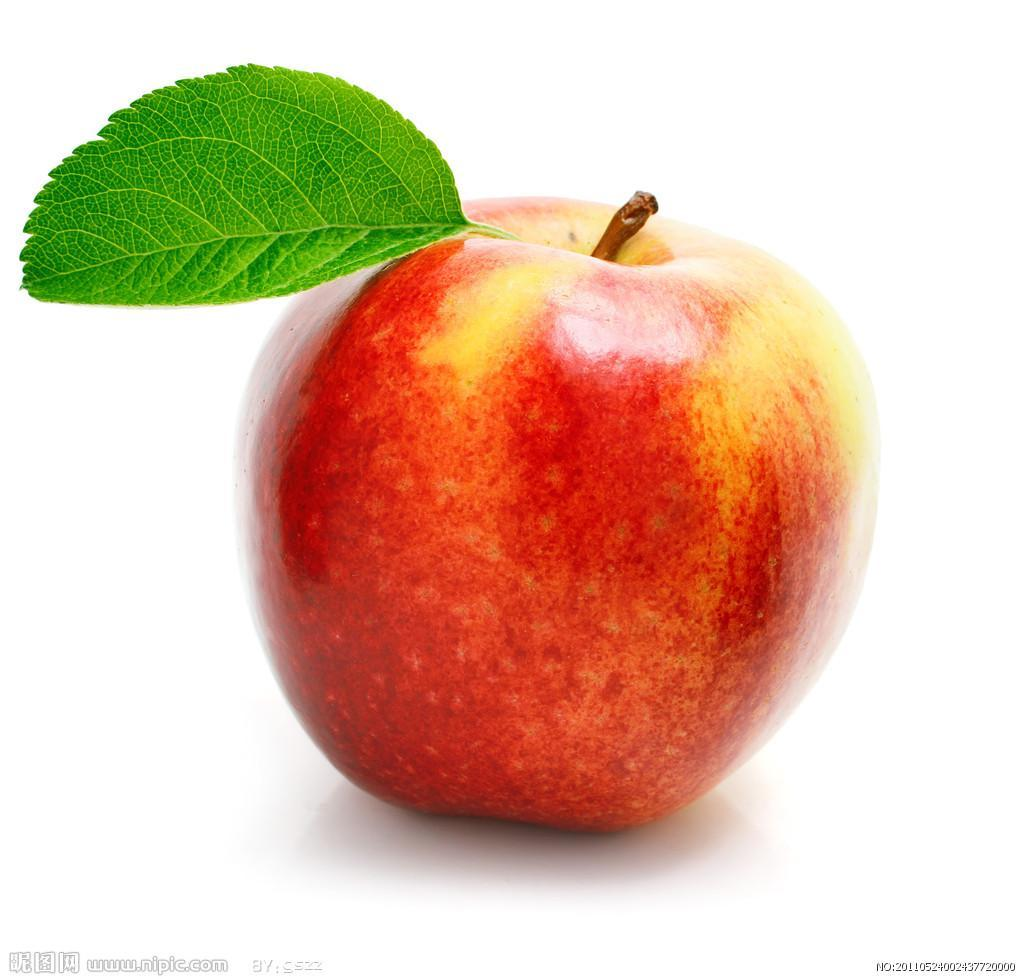apple: (236, 196, 881, 841)
